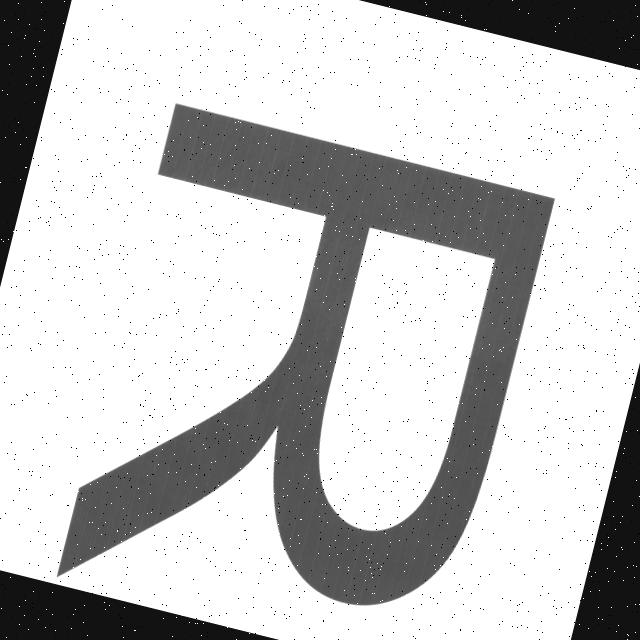r: (37, 64, 579, 640)
